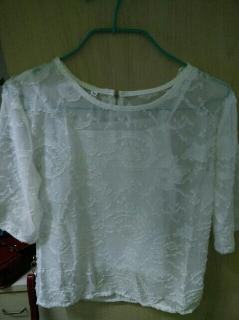long sleeve top: (0, 56, 238, 315)
